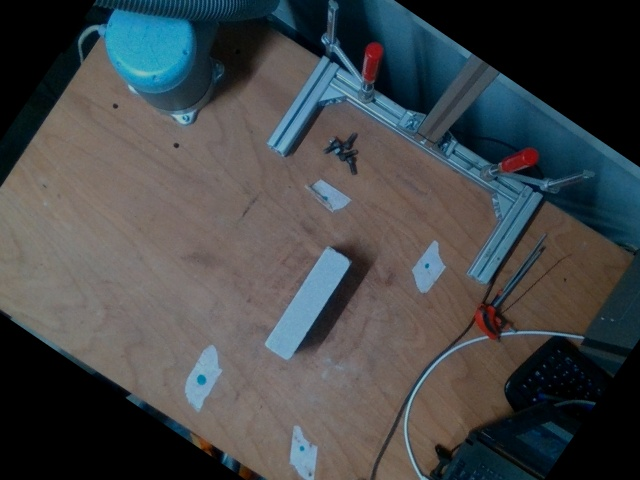brick-side: (264, 248, 351, 361)
